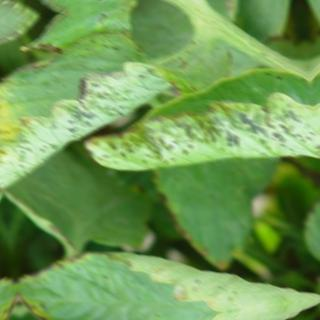Tomato leaf bacterial spot: (0, 25, 187, 199), (69, 64, 319, 184)
